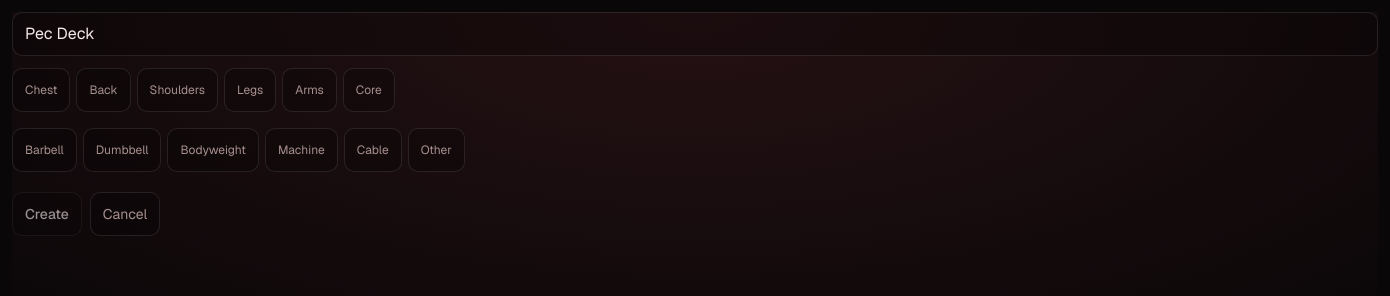
ExerciseForm › disables submit until a name, a group and an equipment are all set
Expected: the button "Create" is disabled, [12, 192, 82, 236]
Click the radio button labelled "Chest" at point(41, 90), box [12, 68, 70, 112]
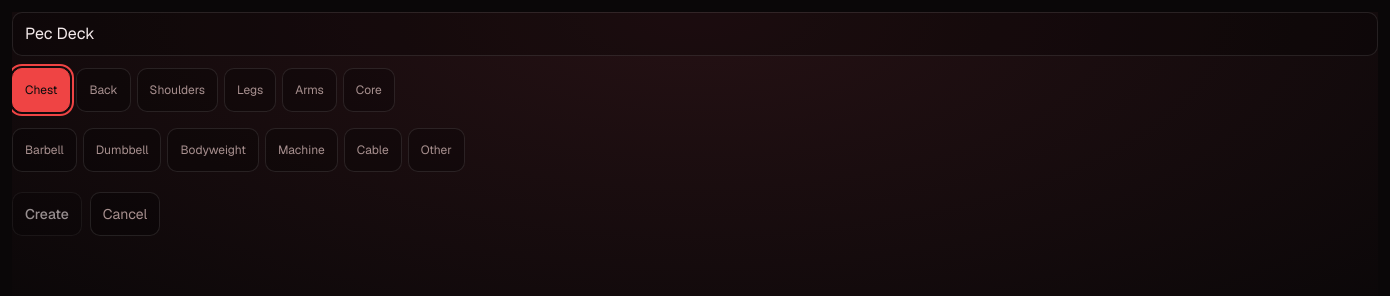
Expected: the button "Create" is disabled, [12, 192, 82, 236]
Click the radio button labelled "Machine" at point(301, 150), box [265, 128, 338, 172]
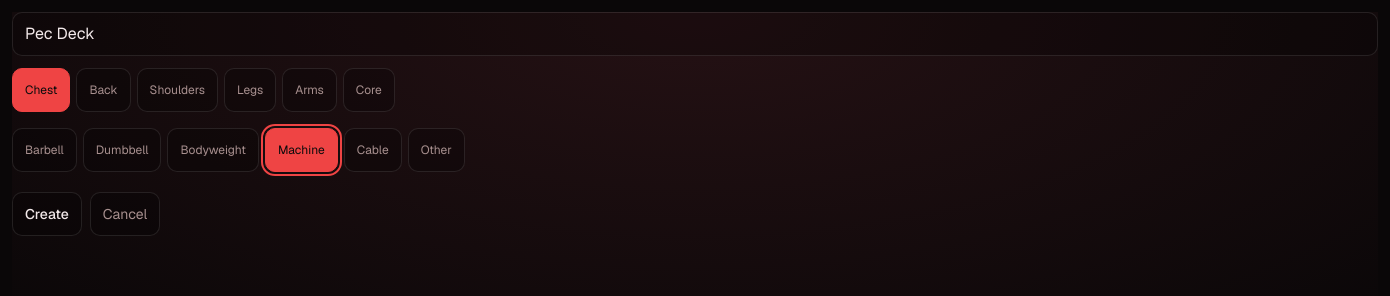
Expected: the button "Create" is enabled, [12, 192, 82, 236]
